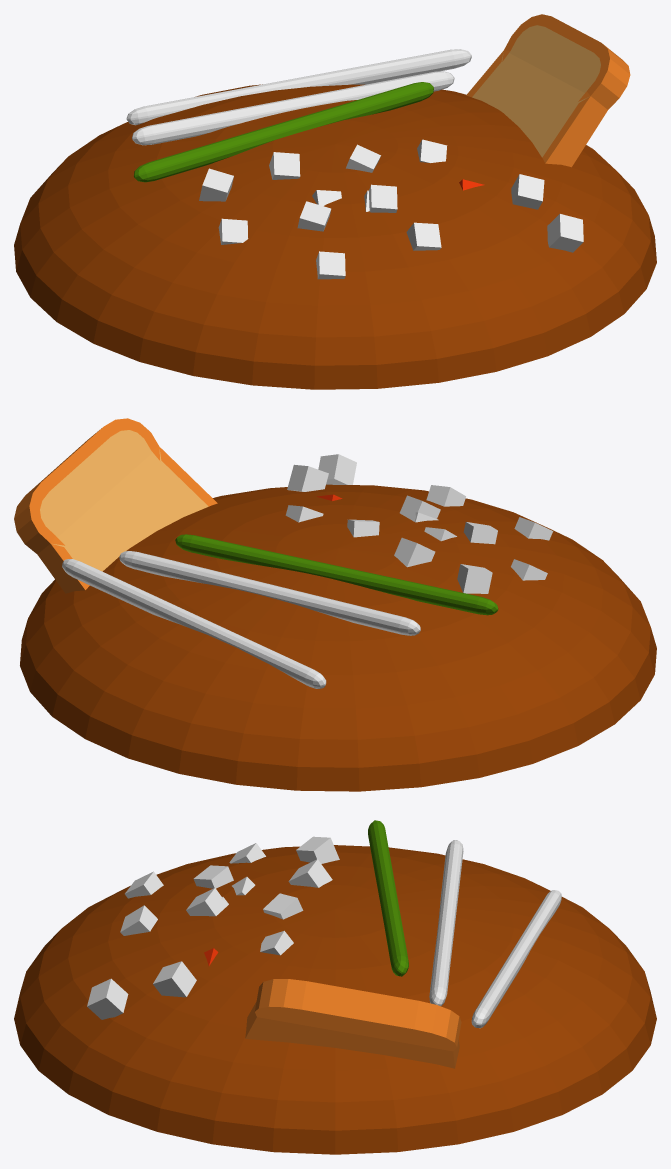
File: BadFood.fbx
3 renders of one model, top to bottom at view 1: azimuth 30°, elevation 25°; view 2: azimuth 150°, elevation 25°; view 3: azimuth 270°, elevation 25°, orthographic.
Parts seen in each view (by area): view 1: Sphere, Cube, Cube.007, Cube.006, Cube.003, Cube.012, Cube.013, Cube.010, Cube.014, Cube.009, Cube.017, Cube.015 (+4 smaller); view 2: Sphere, Cube, Cube.007, Cube.003, Cube.006, Cube.012, Cube.013, Cube.010, Cube.009, Cube.014, Cube.015, Cube.016 (+1 smaller); view 3: Sphere, Cube, Cube.003, Cube.007, Cube.006, Cube.012, Cube.013, Cube.010, Cube.009, Cube.015, Cube.014, Cube.016 (+3 smaller).
Boxes of the visible parts, box(x1,y1,x2,y2) form: Sphere: box(14, 84, 656, 389); Cube: box(466, 14, 630, 167); Cube.007: box(134, 82, 433, 182); Cube.006: box(126, 49, 471, 125); Cube.003: box(132, 71, 454, 145); Cube.012: box(547, 214, 583, 252); Cube.013: box(511, 174, 544, 209); Cube.010: box(199, 168, 233, 201); Cube.014: box(406, 222, 441, 250); Cube.009: box(269, 152, 300, 179); Cube.017: box(316, 251, 345, 279); Cube.015: box(368, 184, 397, 212); Sphere: box(20, 484, 656, 791); Cube: box(14, 418, 217, 593); Cube.007: box(175, 534, 498, 615); Cube.003: box(119, 551, 420, 635); Cube.006: box(62, 559, 326, 688); Cube.012: box(318, 454, 356, 484); Cube.013: box(287, 464, 328, 491); Cube.010: box(457, 564, 492, 593); Cube.009: box(394, 537, 435, 567); Cube.014: box(426, 485, 465, 506); Cube.015: box(399, 495, 440, 521); Cube.016: box(463, 522, 497, 544); Sphere: box(14, 845, 656, 1154); Cube: box(245, 979, 461, 1068); Cube.003: box(429, 840, 463, 1006); Cube.007: box(368, 820, 408, 976); Cube.006: box(471, 890, 561, 1028); Cube.012: box(87, 978, 128, 1019); Cube.013: box(153, 961, 196, 997); Cube.010: box(296, 836, 339, 863); Cube.009: box(288, 859, 332, 887); Cube.015: box(186, 888, 227, 916); Cube.014: box(120, 905, 157, 935); Cube.016: box(193, 865, 233, 888).
Bounding box in the file's own units: 200 × 67.57 × 200.
